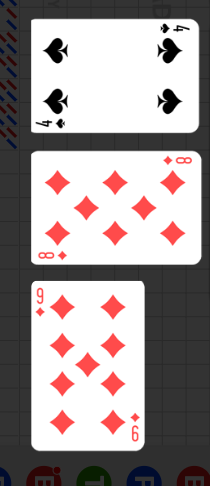4S: (157, 23, 191, 36)
9D: (34, 286, 46, 319), (129, 411, 141, 443)
